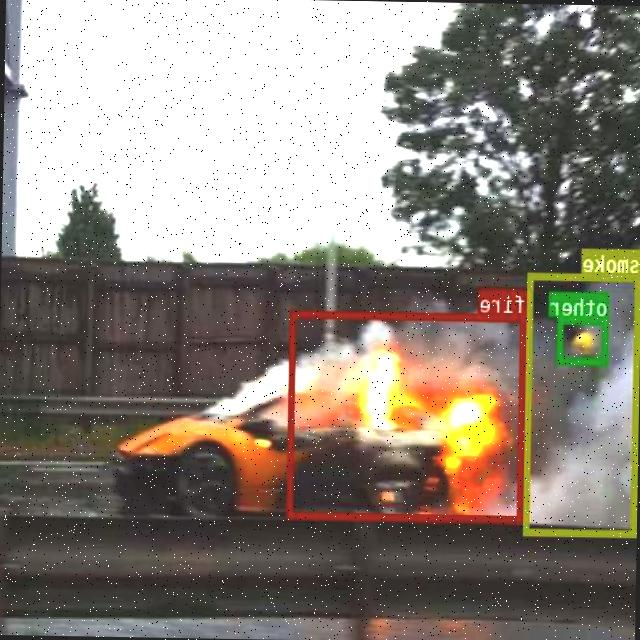fire: (288, 310, 528, 520)
smoke: (525, 270, 640, 536)
